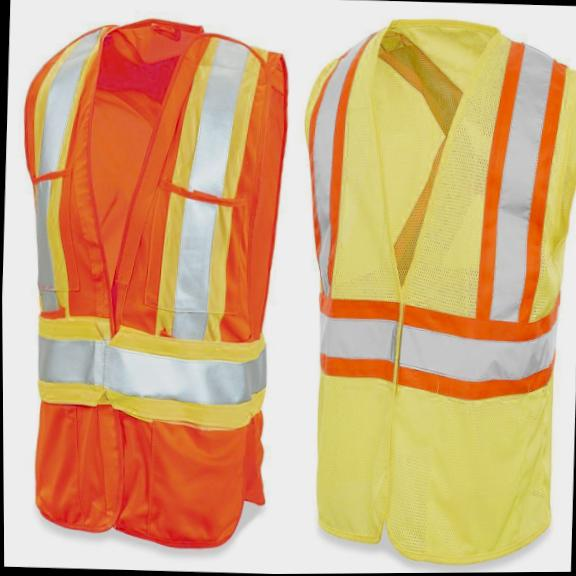safety_vest: (287, 6, 576, 573), (6, 8, 293, 552)
